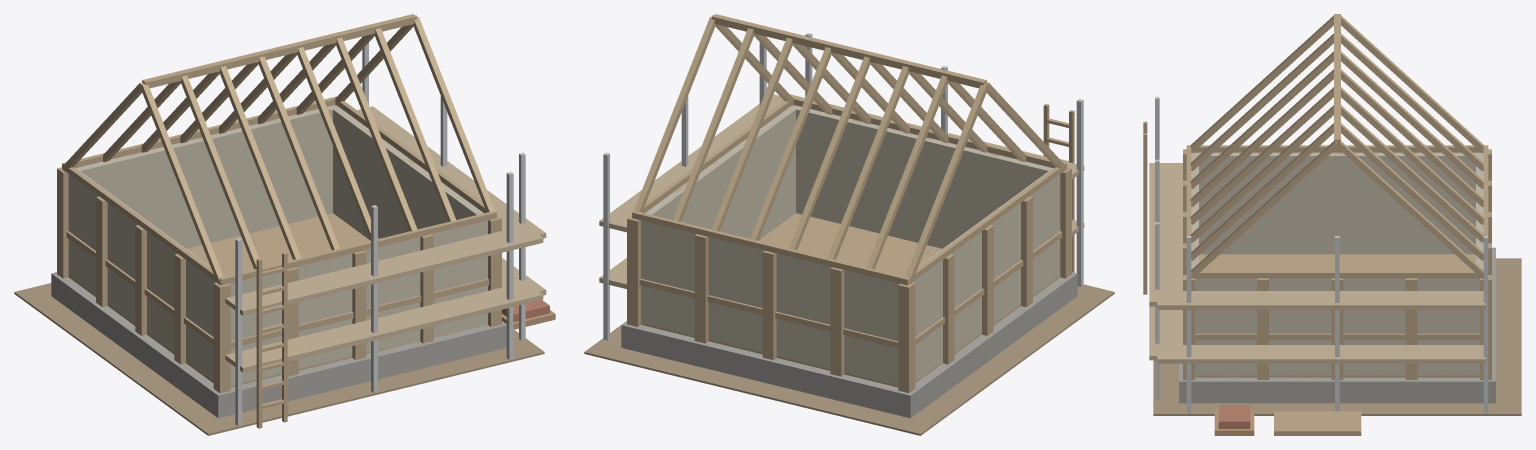
File: sheep_pen_site_9.glb
3 renders of one model, left to right at view 1: azimuth 30°, elevation 25°; view 2: azimuth 150°, elevation 25°; view 3: azimuth 270°, elevation 25°, orthographic. The views are drawn at different scales.
Parts seen in each view (by area): view 1: body; view 2: body; view 3: body.
Boxes of the visible parts, left/top/right/bottom form: body: left=14, top=14, right=555, bottom=435; body: left=584, top=14, right=1114, bottom=435; body: left=1143, top=14, right=1521, bottom=435.
Size of the model in its own units: 2.1 by 1.46 by 1.91.
